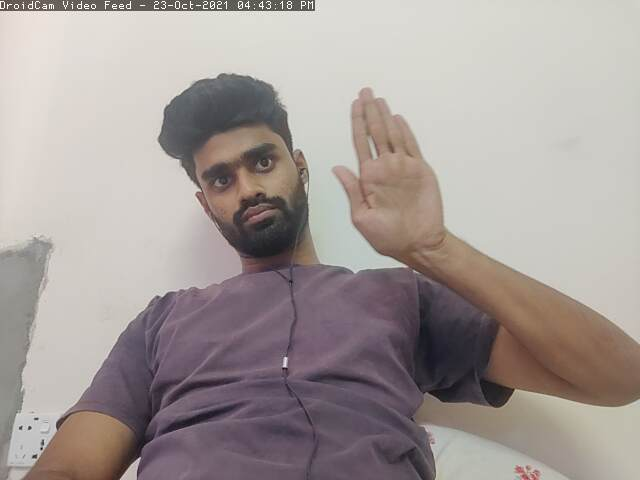Stop: (329, 84, 447, 254)
